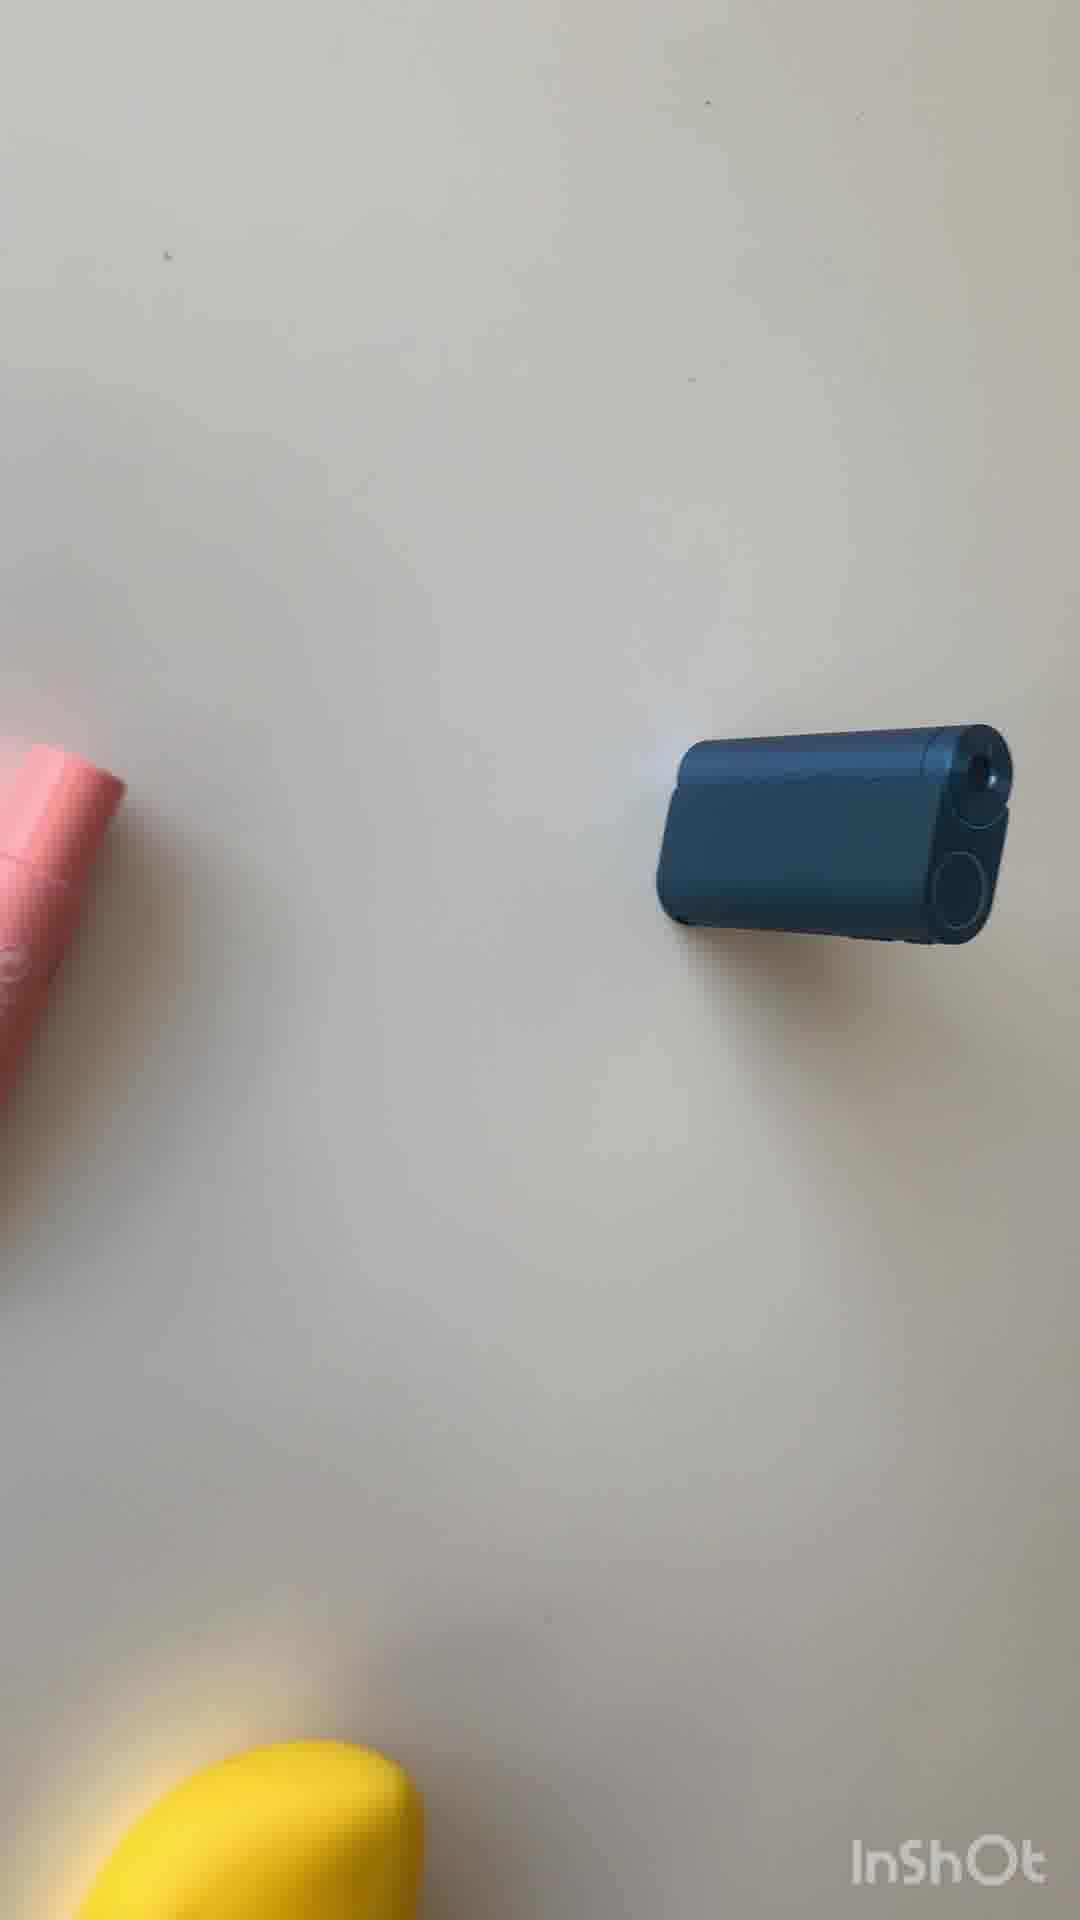duck: (46, 1726, 426, 1920)
glo: (655, 721, 1013, 949)
lip balm: (1, 731, 133, 1077)
